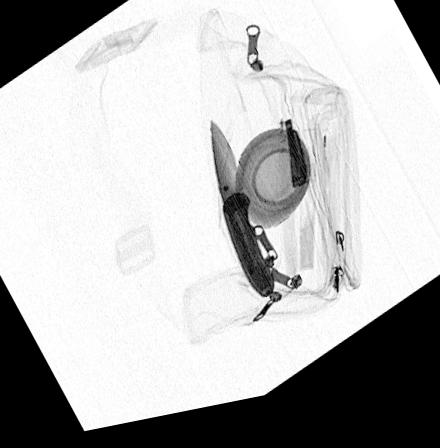Knife: (209, 125, 273, 307)
